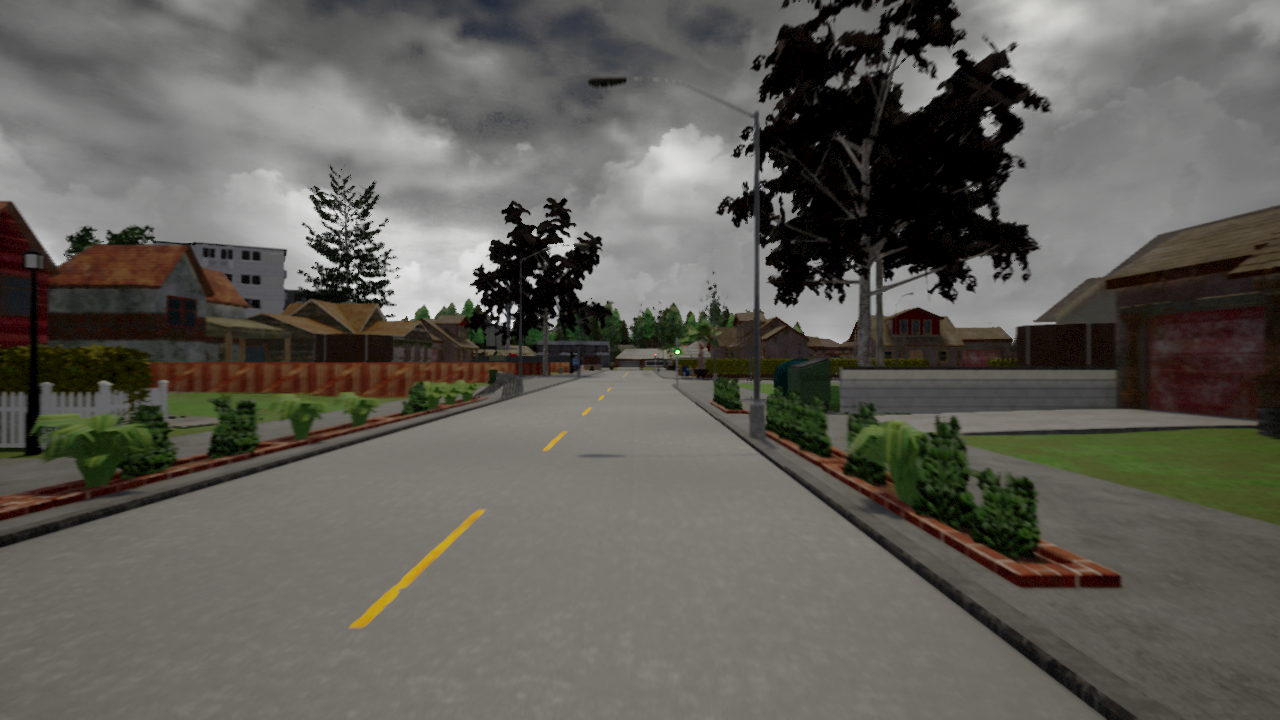green: (673, 341, 681, 356)
